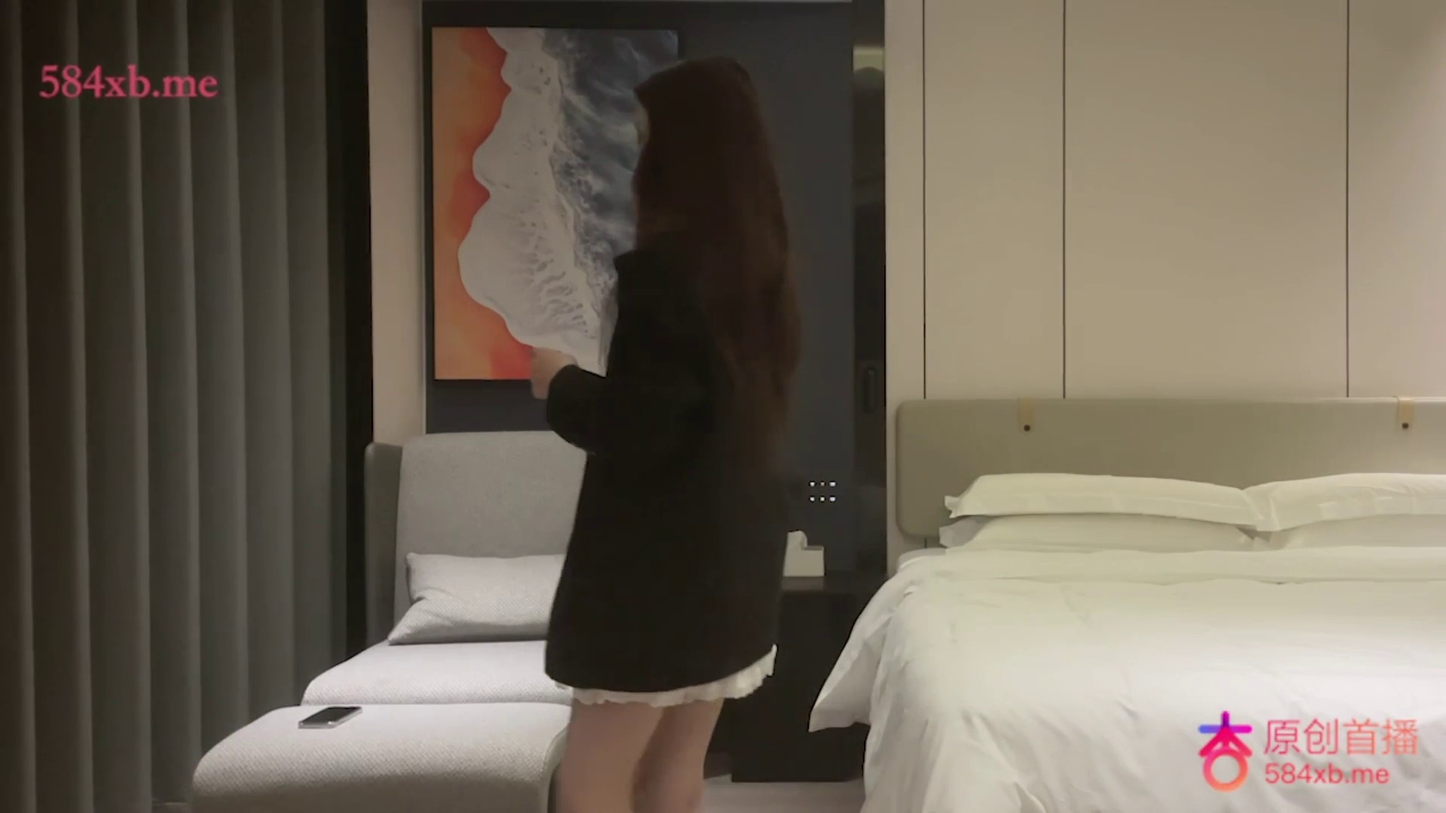stand: (527, 55, 802, 805)
